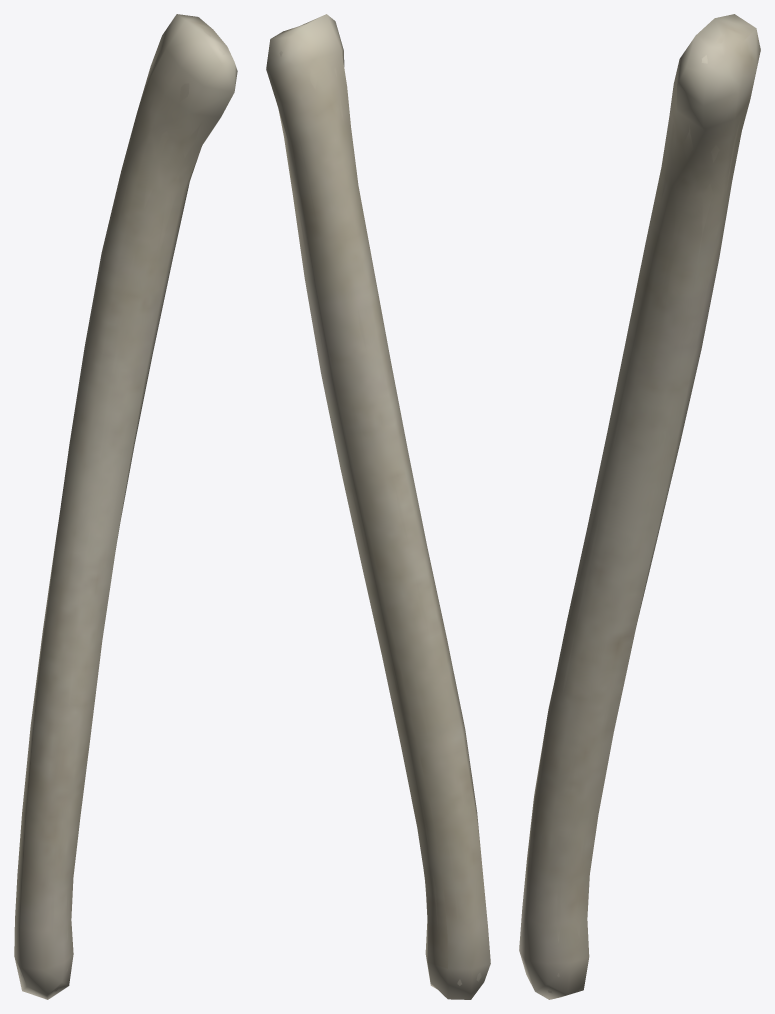
File: Rib R01.fbx
3 views of the same model, side by side, from view 1: azimuth 30°, elevation 25°; view 2: azimuth 150°, elevation 25°; view 3: azimuth 330°, elevation 25° (orthographic). The views are drawn at different scales.
Visible parts, largest first — view 1: Rib R01 low, Rib R01; view 2: Rib R01 low, Rib R01; view 3: Rib R01 low, Rib R01.
Boxes of the visible parts, x1,y1,x2,y2 form: Rib R01 low: (14,14,237,999); Rib R01: (18,29,224,993); Rib R01 low: (266,14,490,999); Rib R01: (279,23,481,985); Rib R01 low: (519,14,760,999); Rib R01: (524,34,740,993).
Bounding box in the file's own units: 1.06 × 4.5 × 0.4947.
Materials: 1 (1 with a texture image).
